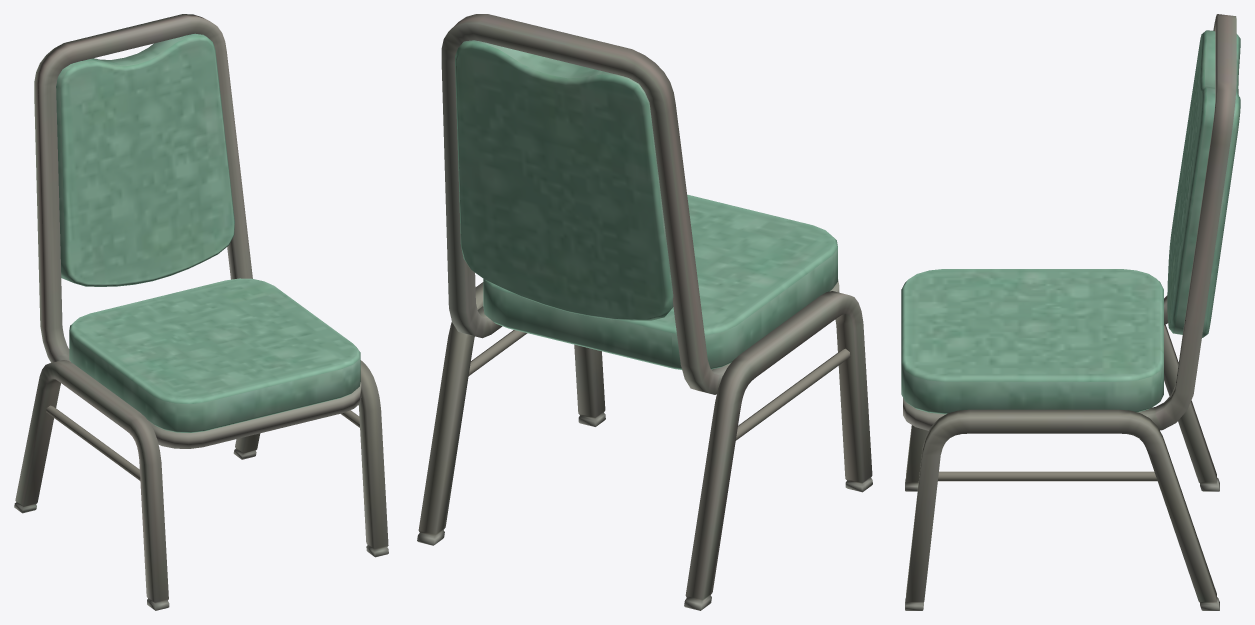
3 renders of one model, left to right at view 1: azimuth 30°, elevation 25°; view 2: azimuth 150°, elevation 25°; view 3: azimuth 270°, elevation 25°, orthographic. The views are drawn at different scales.
Size of the model in its own units: 6.47 by 11.84 by 7.3.
Materials: 1 (1 with a texture image).
